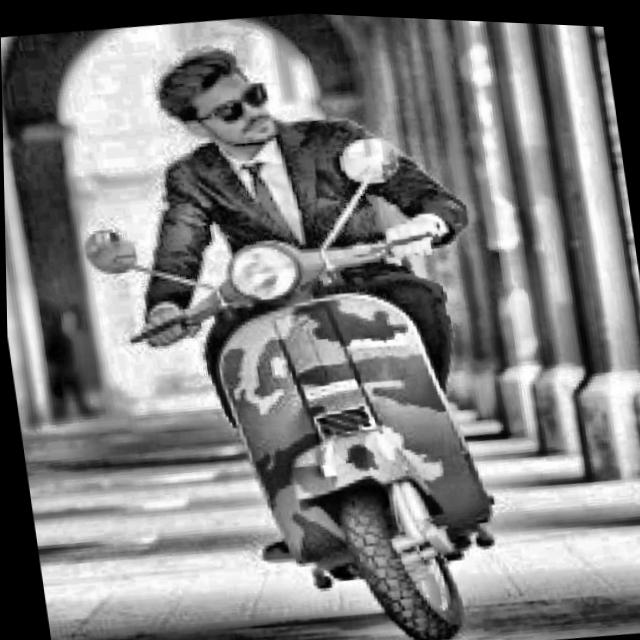motorcycle: (50, 104, 568, 640)
